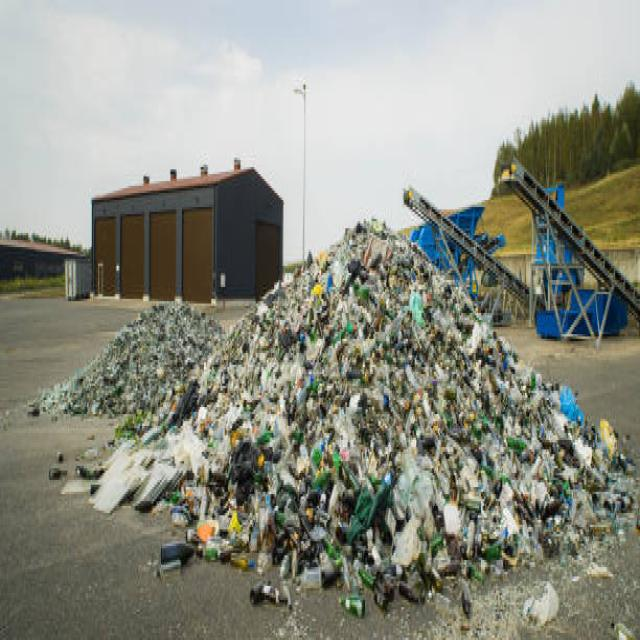glass: (123, 381, 440, 631)
